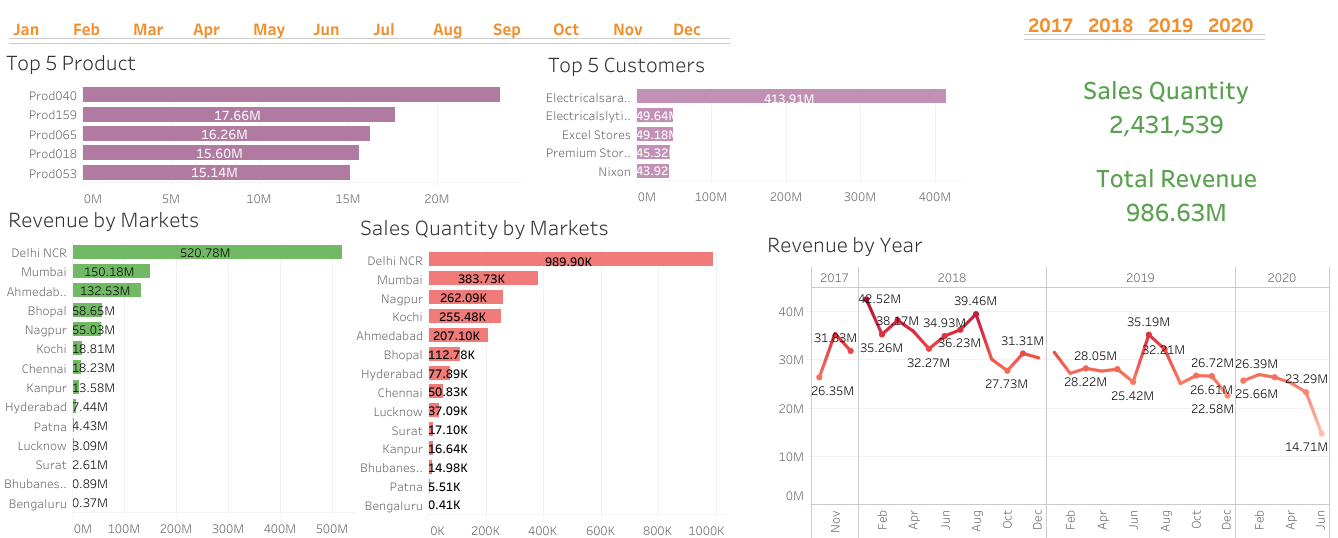

The page's visual inventory and layout, read from the dashboard file:
{"tool":"tableau","page":{"name":"Dashboard 1","canvas":[1000,1000],"units":"permille","ordinal":0},"visuals":[{"type":"worksheet","title":"Year  ","mark":"Automatic","cols":["cy_date"],"box":[764.9,25.7,211.5,54.8]},{"type":"worksheet","title":"Months","mark":"Automatic","cols":["cy_date"],"box":[7,34.2,636.4,61.6]},{"type":"worksheet","title":"Top 5 Product ","mark":"Automatic","rows":["product_code (products)"],"cols":["Calculation_510032709161414658"],"box":[1.8,77,387.2,316.8]},{"type":"worksheet","title":"Top 5 Customers ","mark":"Automatic","rows":["custmer_name"],"cols":["Calculation_510032709161414658"],"box":[406.5,82.2,311.2,292.8]},{"type":"worksheet","title":"Quantity","mark":"Automatic","box":[776.2,121.6,190.6,149]},{"type":"worksheet","title":"Revenue","mark":"Automatic","box":[790.2,286,178.3,149]},{"type":"worksheet","title":"Revenue by Markets","mark":"Automatic","rows":["markets_name"],"cols":["Calculation_510032709161414658"],"box":[2.6,369.9,263.1,628.4]},{"type":"worksheet","title":"Revenue by Year","mark":"Automatic","rows":["Calculation_510032709161414658"],"cols":["cy_date","cy_date"],"box":[569.9,416.1,423.1,587.3]}]}

Visuals, with their boxes on the dashboard's canvas, which has no fixed pixel size, in thousandths of its width and height (x1, y1, x2, y2). These are canvas units, not pixel positions in the 1338x538 screenshot, which may show the page scaled, cropped or inside an application window:
"Year  " worksheet: [765, 26, 976, 80]
"Months" worksheet: [7, 34, 643, 96]
"Top 5 Product " worksheet: [2, 77, 389, 394]
"Top 5 Customers " worksheet: [406, 82, 718, 375]
"Quantity" worksheet: [776, 122, 967, 271]
"Revenue" worksheet: [790, 286, 968, 435]
"Revenue by Markets" worksheet: [3, 370, 266, 998]
"Revenue by Year" worksheet: [570, 416, 993, 1003]
